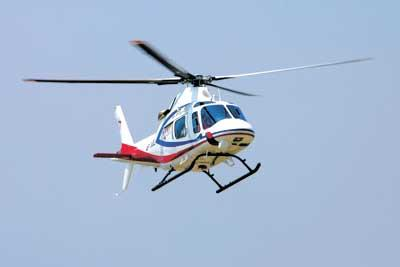airplane: (19, 39, 373, 192)
